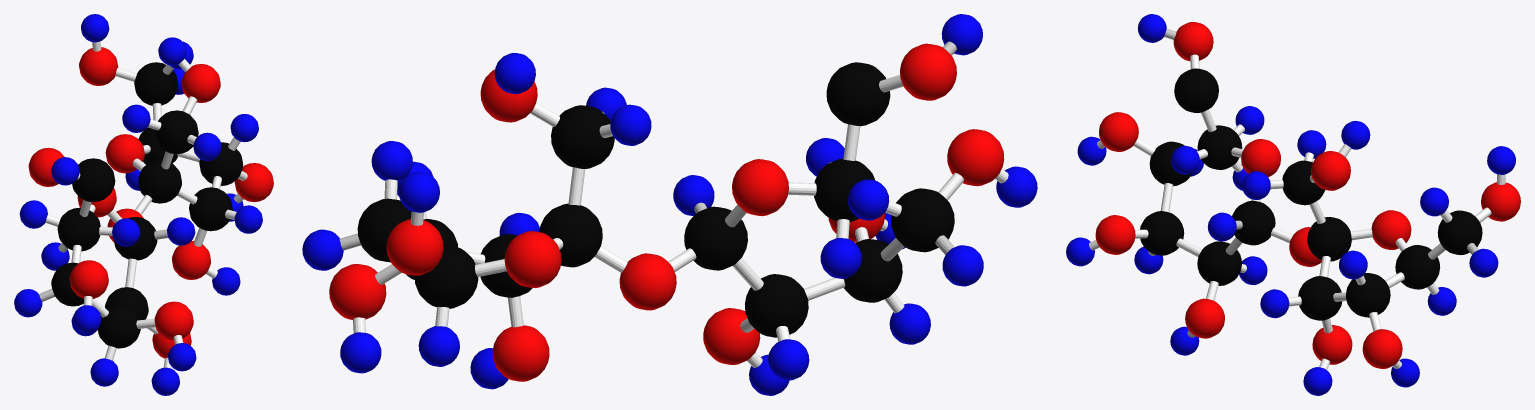
Rendered from sacarose.obj.
3 renders of one model, left to right at view 1: azimuth 30°, elevation 25°; view 2: azimuth 150°, elevation 25°; view 3: azimuth 270°, elevation 25°, orthographic. The views are drawn at different scales.
Visible parts, largest first — view 1: Shape_Sphere.039_Shape_Sphere.040, Shape_Sphere.023_Shape_Sphere.024, Shape_Sphere.031_Shape_Sphere.032, Shape_Sphere.007_Shape_Sphere.008, Shape_Sphere.012_Shape_Sphere.013, Shape_Sphere.024_Shape_Sphere.025, Shape_Sphere_Shape_Sphere.001, Shape_Sphere.010_Shape_Sphere.011, Shape_Sphere.025_Shape_Sphere.026, Shape_Sphere.015_Shape_Sphere.016, Shape_Sphere.041_Shape_Sphere.042, Shape_Sphere.033_Shape_Sphere.034 (+29 smaller); view 2: Shape_Sphere.007_Shape_Sphere.008, Shape_Sphere.001_Shape_Sphere.002, Shape_Sphere.024_Shape_Sphere.025, Shape_Sphere.014_Shape_Sphere.015, Shape_Sphere.005_Shape_Sphere.006, Shape_Sphere.023_Shape_Sphere.024, Shape_Sphere.030_Shape_Sphere.031, Shape_Sphere.006_Shape_Sphere.007, Shape_Sphere.008_Shape_Sphere.009, Shape_Sphere.029_Shape_Sphere.030, Shape_Sphere.021_Shape_Sphere.022, Shape_Sphere.033_Shape_Sphere.034 (+29 smaller); view 3: Shape_Sphere.007_Shape_Sphere.008, Shape_Sphere.023_Shape_Sphere.024, Shape_Sphere.031_Shape_Sphere.032, Shape_Sphere.030_Shape_Sphere.031, Shape_Sphere.012_Shape_Sphere.013, Shape_Sphere.014_Shape_Sphere.015, Shape_Sphere.039_Shape_Sphere.040, Shape_Sphere.032_Shape_Sphere.033, Shape_Sphere.005_Shape_Sphere.006, Shape_Sphere_Shape_Sphere.001, Shape_Sphere.024_Shape_Sphere.025, Shape_Sphere.015_Shape_Sphere.016 (+31 smaller).
Part boxes in pixels (left/top/right/bottom): Shape_Sphere.039_Shape_Sphere.040: left=134, top=62, right=177, bottom=105; Shape_Sphere.023_Shape_Sphere.024: left=138, top=159, right=181, bottom=203; Shape_Sphere.031_Shape_Sphere.032: left=189, top=187, right=232, bottom=231; Shape_Sphere.007_Shape_Sphere.008: left=72, top=158, right=115, bottom=202; Shape_Sphere.012_Shape_Sphere.013: left=97, top=304, right=140, bottom=348; Shape_Sphere.024_Shape_Sphere.025: left=154, top=110, right=198, bottom=154; Shape_Sphere_Shape_Sphere.001: left=57, top=207, right=100, bottom=251; Shape_Sphere.010_Shape_Sphere.011: left=69, top=260, right=108, bottom=298; Shape_Sphere.025_Shape_Sphere.026: left=181, top=64, right=220, bottom=102; Shape_Sphere.015_Shape_Sphere.016: left=154, top=301, right=193, bottom=340; Shape_Sphere.041_Shape_Sphere.042: left=79, top=47, right=118, bottom=85; Shape_Sphere.033_Shape_Sphere.034: left=172, top=241, right=210, bottom=279; Shape_Sphere.007_Shape_Sphere.008: left=826, top=62, right=890, bottom=126; Shape_Sphere.001_Shape_Sphere.002: left=891, top=188, right=954, bottom=252; Shape_Sphere.024_Shape_Sphere.025: left=551, top=105, right=614, bottom=168; Shape_Sphere.014_Shape_Sphere.015: left=745, top=274, right=808, bottom=337; Shape_Sphere.005_Shape_Sphere.006: left=684, top=206, right=747, bottom=270; Shape_Sphere.023_Shape_Sphere.024: left=539, top=203, right=602, bottom=267; Shape_Sphere.030_Shape_Sphere.031: left=414, top=245, right=478, bottom=308; Shape_Sphere.006_Shape_Sphere.007: left=732, top=159, right=788, bottom=216; Shape_Sphere.008_Shape_Sphere.009: left=900, top=43, right=956, bottom=100; Shape_Sphere.029_Shape_Sphere.030: left=504, top=231, right=561, bottom=287; Shape_Sphere.021_Shape_Sphere.022: left=619, top=253, right=676, bottom=310; Shape_Sphere.033_Shape_Sphere.034: left=492, top=325, right=549, bottom=381; Shape_Sphere.007_Shape_Sphere.008: left=1174, top=68, right=1218, bottom=112; Shape_Sphere.023_Shape_Sphere.024: left=1307, top=217, right=1351, bottom=261; Shape_Sphere.031_Shape_Sphere.032: left=1298, top=276, right=1342, bottom=320; Shape_Sphere.030_Shape_Sphere.031: left=1395, top=245, right=1440, bottom=289; Shape_Sphere.012_Shape_Sphere.013: left=1140, top=211, right=1184, bottom=255; Shape_Sphere.014_Shape_Sphere.015: left=1197, top=241, right=1241, bottom=285; Shape_Sphere.039_Shape_Sphere.040: left=1437, top=210, right=1482, bottom=254; Shape_Sphere.032_Shape_Sphere.033: left=1346, top=273, right=1390, bottom=317; Shape_Sphere.005_Shape_Sphere.006: left=1232, top=200, right=1275, bottom=245; Shape_Sphere_Shape_Sphere.001: left=1197, top=125, right=1242, bottom=169; Shape_Sphere.024_Shape_Sphere.025: left=1282, top=160, right=1325, bottom=205; Shape_Sphere.015_Shape_Sphere.016: left=1095, top=215, right=1135, bottom=254.
Size of the model in its own units: 9.35 by 7.06 by 10.35.
